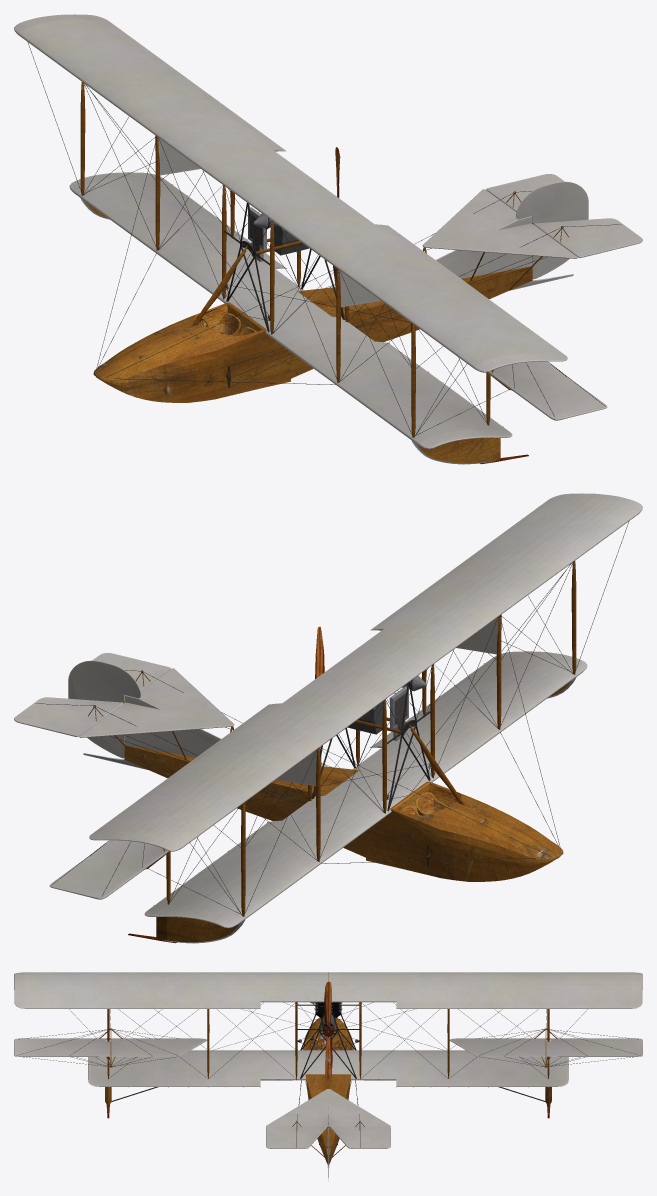
File: modelf.obj
3 renders of one model, top to bottom at view 1: azimuth 30°, elevation 25°; view 2: azimuth 150°, elevation 25°; view 3: azimuth 270°, elevation 25°, orthographic. The views are drawn at different scales.
Parts seen in each view (by area): view 1: ailestransH_ailestransH.mesh, ailestransB_ailestransB.mesh, fuselage_fuselage.mesh, derivetrans_derivetrans.mesh, montants_montants.mesh, profondeurtrans_profondeurtrans.mesh, cables_cables.mesh, ailerontransG_ailerontransG.mesh, directiontrans_directiontrans.mesh, flotteurs_flotteurs.mesh, ajoutstrans_ajoutstrans.mesh, structure_structure.mesh (+1 smaller); view 2: ailestransH_ailestransH.mesh, ailestransB_ailestransB.mesh, fuselage_fuselage.mesh, derivetrans_derivetrans.mesh, montants_montants.mesh, profondeurtrans_profondeurtrans.mesh, cables_cables.mesh, ailerontransD_ailerontransD.mesh, directiontrans_directiontrans.mesh, flotteurs_flotteurs.mesh, ajoutstrans_ajoutstrans.mesh, structure_structure.mesh (+2 smaller); view 3: ailestransH_ailestransH.mesh, ailestransB_ailestransB.mesh, ailerontransG_ailerontransG.mesh, ailerontransD_ailerontransD.mesh, derivetrans_derivetrans.mesh, profondeurtrans_profondeurtrans.mesh, fuselage_fuselage.mesh, montants_montants.mesh, cables_cables.mesh, structure_structure.mesh, aileronboisG_aileronboisG.mesh, aileronboisD_aileronboisD.mesh (+1 smaller).
Boxes of the visible parts, box(x1,y1,x2,y2) form: ailestransH_ailestransH.mesh: box(14, 14, 567, 372); ailestransB_ailestransB.mesh: box(69, 172, 512, 449); fuselage_fuselage.mesh: box(93, 266, 532, 402); derivetrans_derivetrans.mesh: box(422, 189, 577, 278); montants_montants.mesh: box(80, 82, 542, 437); profondeurtrans_profondeurtrans.mesh: box(486, 174, 642, 257); cables_cables.mesh: box(27, 42, 487, 437); ailerontransG_ailerontransG.mesh: box(488, 361, 607, 420); directiontrans_directiontrans.mesh: box(516, 181, 588, 279); flotteurs_flotteurs.mesh: box(80, 198, 500, 464); ajoutstrans_ajoutstrans.mesh: box(158, 138, 380, 307); structure_structure.mesh: box(224, 203, 344, 332); ailestransH_ailestransH.mesh: box(89, 493, 642, 851); ailestransB_ailestransB.mesh: box(144, 651, 587, 928); fuselage_fuselage.mesh: box(124, 745, 563, 881); derivetrans_derivetrans.mesh: box(79, 668, 234, 757); montants_montants.mesh: box(114, 561, 576, 916); profondeurtrans_profondeurtrans.mesh: box(14, 653, 170, 736); cables_cables.mesh: box(169, 521, 629, 916); ailerontransD_ailerontransD.mesh: box(49, 840, 168, 899); directiontrans_directiontrans.mesh: box(68, 660, 140, 758); flotteurs_flotteurs.mesh: box(156, 677, 576, 943); ajoutstrans_ajoutstrans.mesh: box(276, 617, 498, 786); structure_structure.mesh: box(312, 682, 432, 811); ailestransH_ailestransH.mesh: box(14, 972, 642, 1008); ailestransB_ailestransB.mesh: box(88, 1050, 568, 1086); ailerontransG_ailerontransG.mesh: box(14, 1038, 207, 1056); ailerontransD_ailerontransD.mesh: box(449, 1038, 642, 1056); derivetrans_derivetrans.mesh: box(266, 1089, 390, 1154); profondeurtrans_profondeurtrans.mesh: box(266, 1126, 390, 1148); fuselage_fuselage.mesh: box(303, 1018, 353, 1164); montants_montants.mesh: box(107, 1001, 549, 1157); cables_cables.mesh: box(69, 1002, 587, 1078); structure_structure.mesh: box(111, 1004, 545, 1101); aileronboisG_aileronboisG.mesh: box(16, 1028, 179, 1067); aileronboisD_aileronboisD.mesh: box(477, 1028, 640, 1067).
Size of the model in its own units: 8.44 by 3.42 by 13.75.
Materials: 14 (13 with a texture image).
